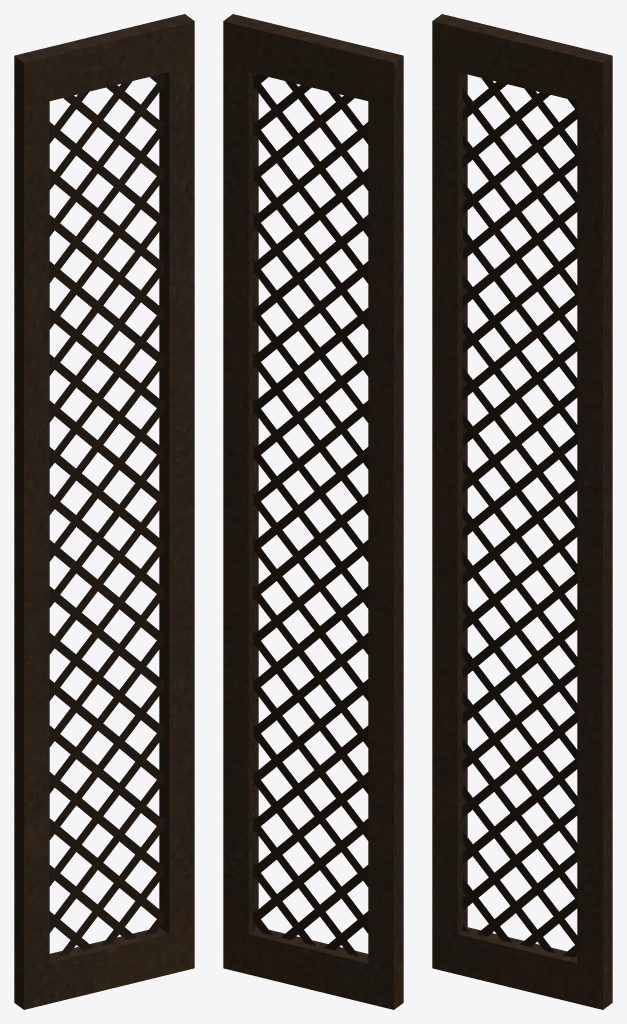
Rendered from fence_e_pillar_1.glb.
The picture shows the model from 3 angles, left to right: view 1: azimuth 30°, elevation 25°; view 2: azimuth 150°, elevation 25°; view 3: azimuth 330°, elevation 25°; orthographic projection.
Visible parts, largest first — view 1: fence_e_pillar_1; view 2: fence_e_pillar_1; view 3: fence_e_pillar_1.
Boxes of the visible parts, x1,y1,x2,y2 form: fence_e_pillar_1: (14, 14, 194, 1009); fence_e_pillar_1: (223, 14, 403, 1009); fence_e_pillar_1: (432, 14, 612, 1009).
Bounding box in the file's own units: 0.4 × 2.12 × 0.04.
Materials: 2 (2 with a texture image).
